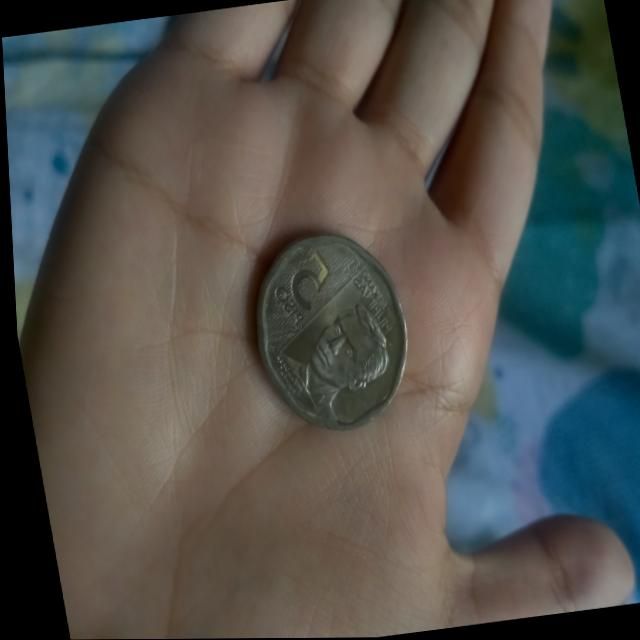5_New_Front: (262, 240, 397, 417)
